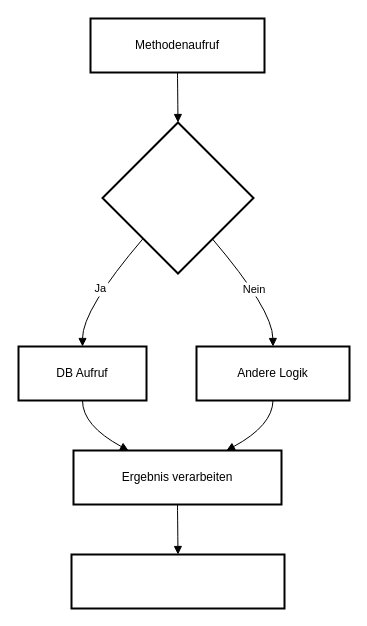
The diagram is 367 pixels wide and 626 high, and some of its shapes have lost their labels. The centre of each missing label's shape, as x and y in pixels:
"Antwort zurückgeben" goes at [177,581].
"Wert ist true?" goes at [177,197].
